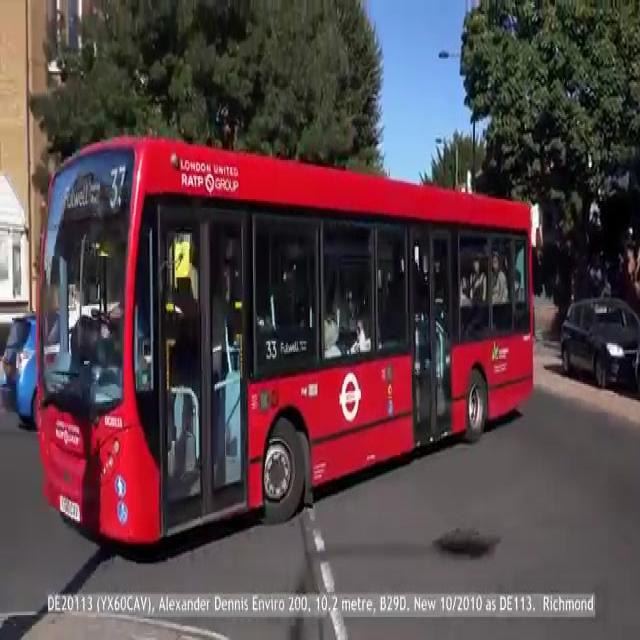bus: (6, 115, 566, 545)
